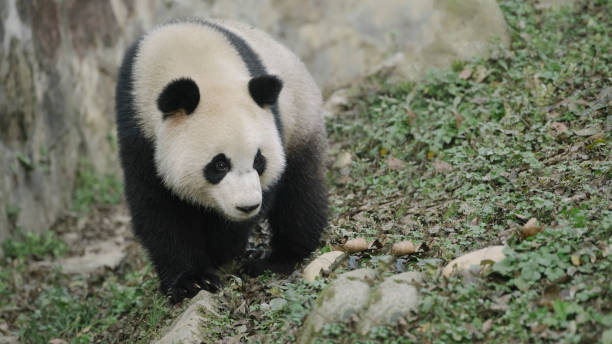panda: (142, 60, 330, 242)
